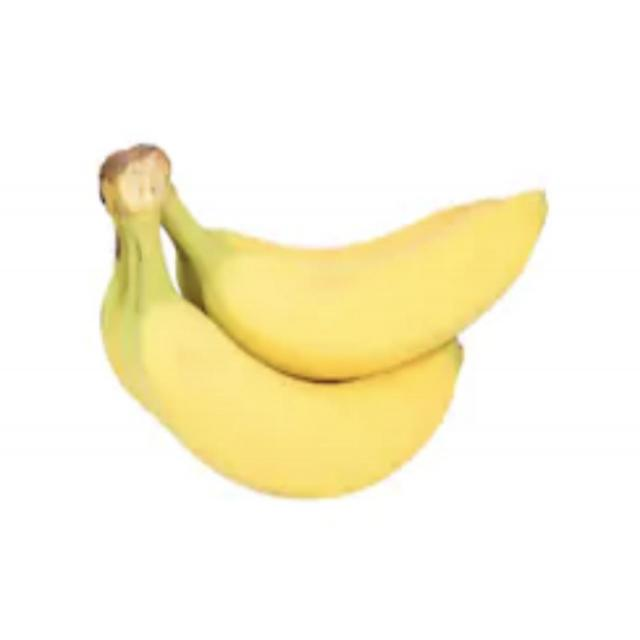banana: (95, 268, 539, 520), (154, 150, 598, 380)
